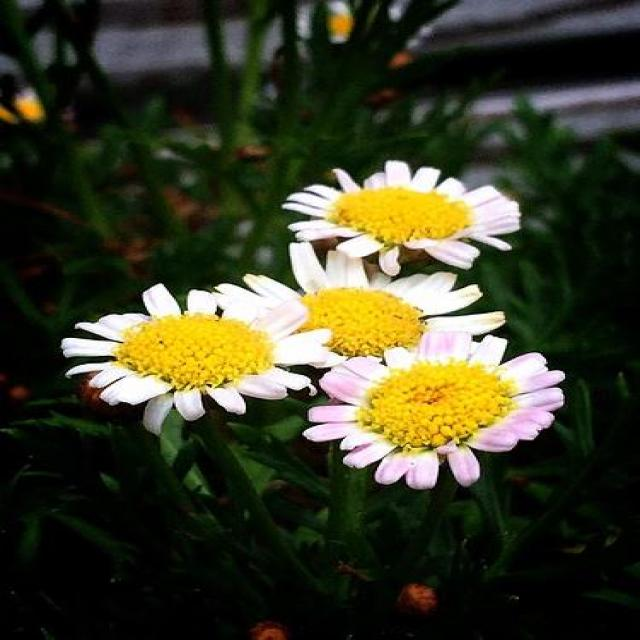organic waste: (269, 337, 566, 492), (212, 230, 504, 386), (50, 286, 310, 423), (284, 159, 537, 261)
